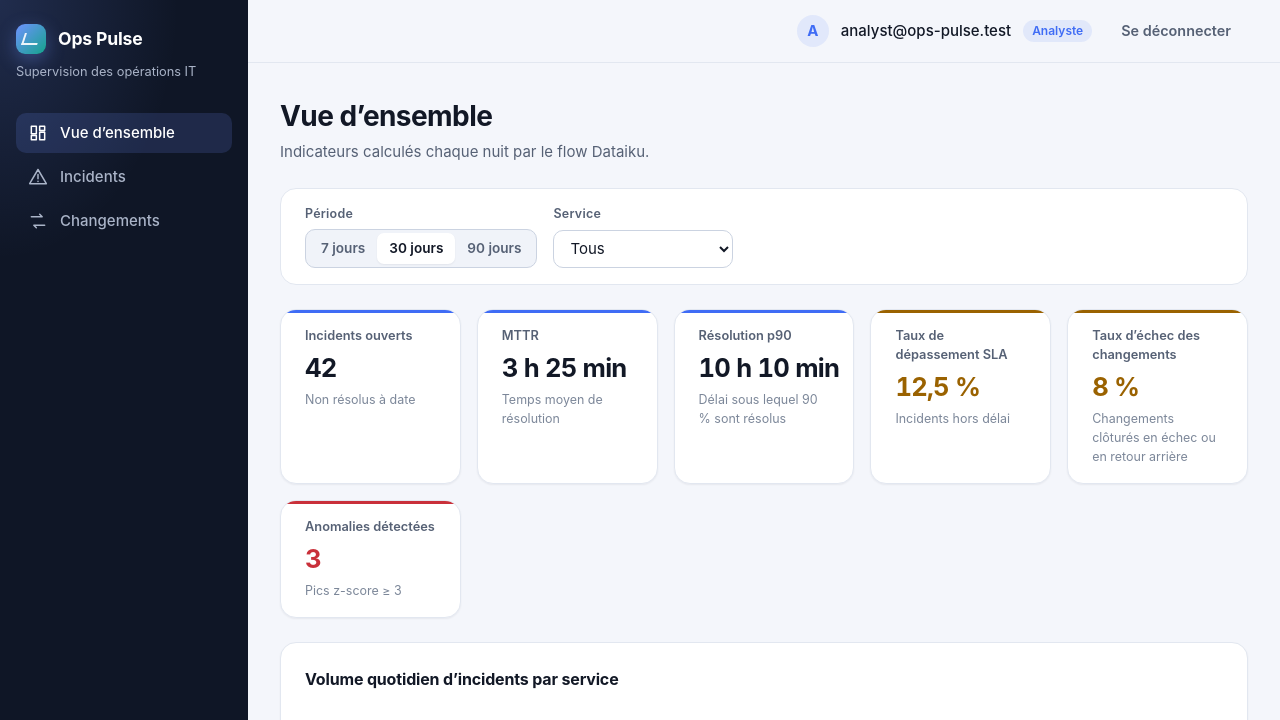
Test: AppLayout › logs out back to the login page
Click the button "Se déconnecter" at {"x": 1176, "y": 31}, box [1104,12,1248,50]
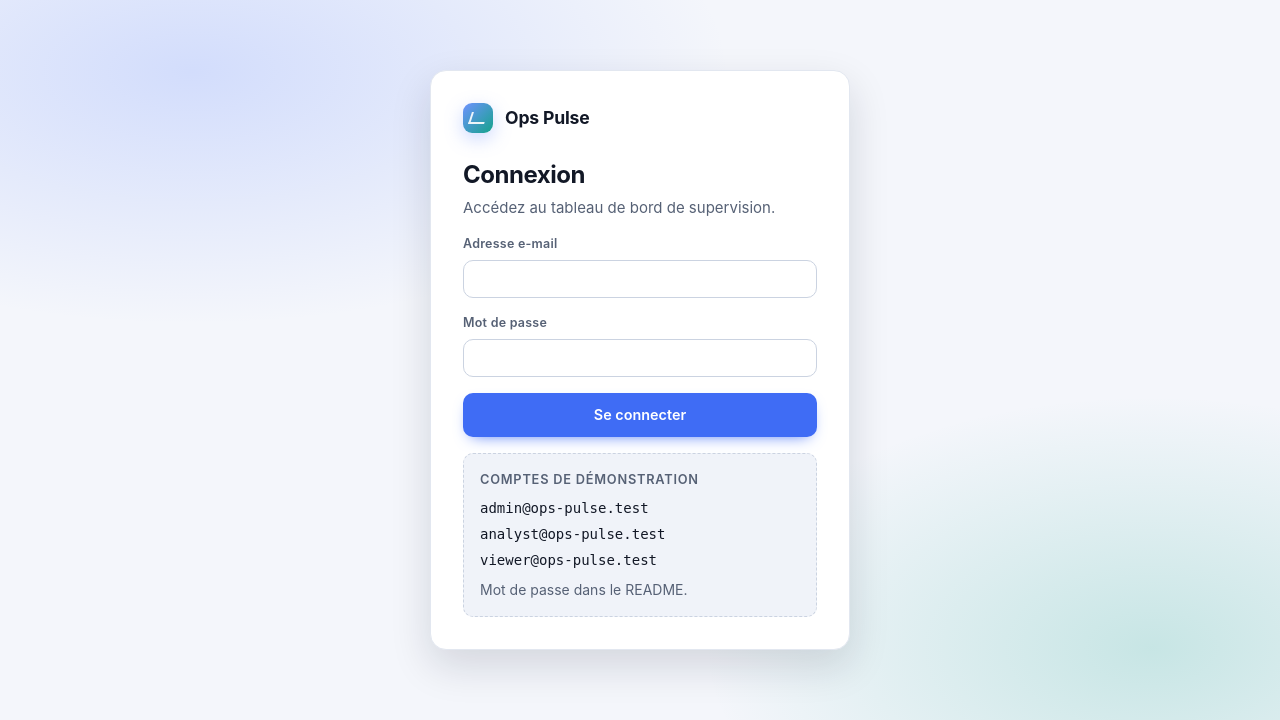
Check: the heading "Connexion" is shown, box [463,160,585,189]
